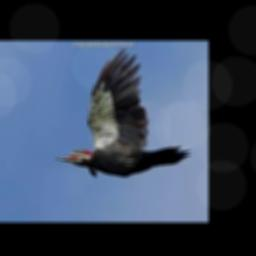Woodpecker: (55, 48, 191, 176)
